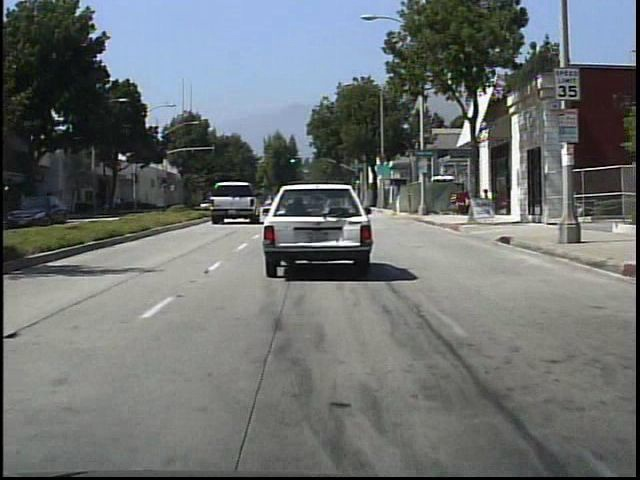person: (46, 196, 62, 223), (115, 194, 125, 214)
